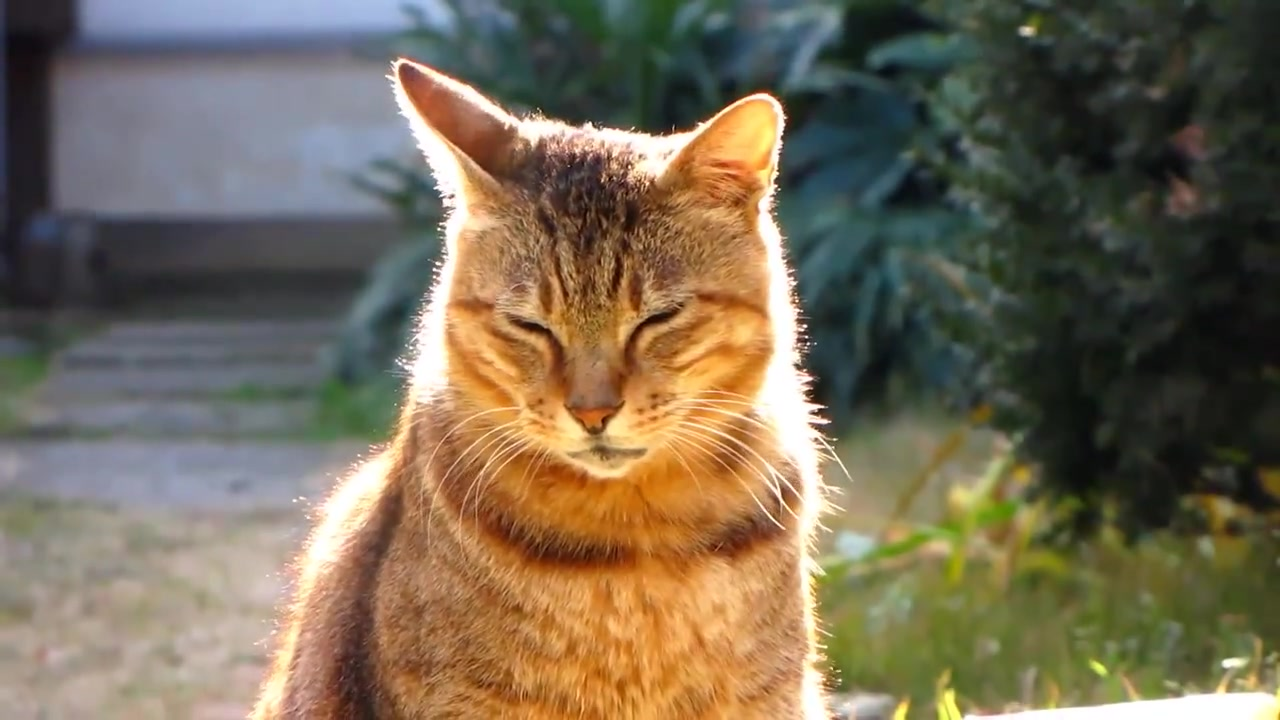cat: (255, 58, 839, 720)
